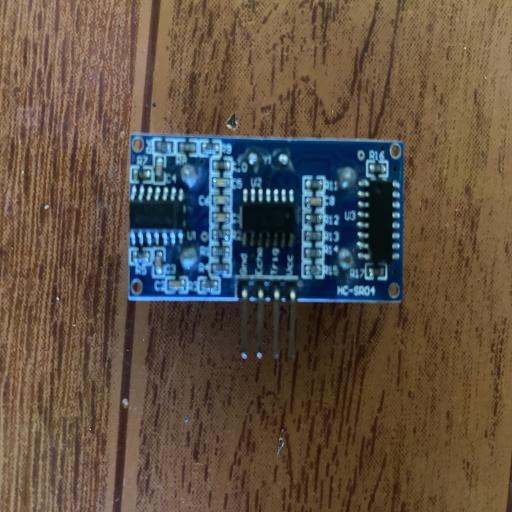Ultrasonic Sensor: (128, 130, 404, 360)
